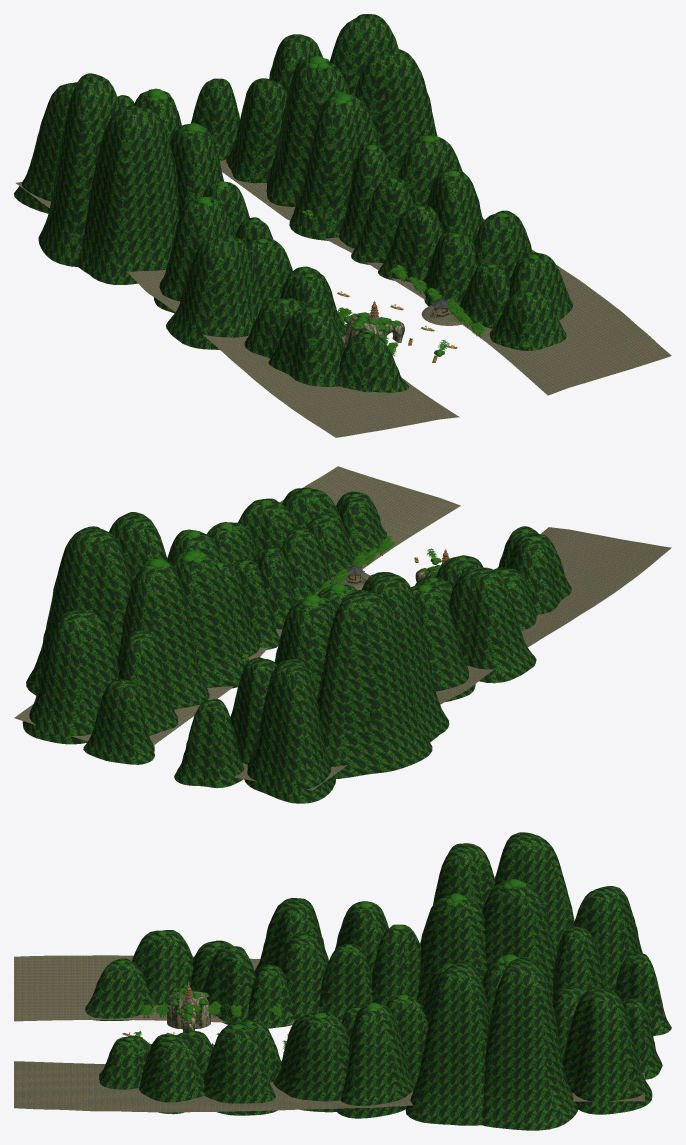
Rendered from guilin_hero_stage.glb.
The picture shows the model from 3 angles, top to bottom: view 1: azimuth 30°, elevation 25°; view 2: azimuth 150°, elevation 25°; view 3: azimuth 270°, elevation 25°; orthographic projection. The views are drawn at different scales.
Visible parts, largest first — view 1: GL_KarstSugarLoaf_Peaks, GL_RiverPebbleBanks_And_Dock, GL_LushKarst_Canopies, GL_Hero_BambooGroves_Leaves, GL_ElephantTrunkHill_Rock; view 2: GL_KarstSugarLoaf_Peaks, GL_RiverPebbleBanks_And_Dock, GL_LushKarst_Canopies, GL_Hero_BambooGroves_Leaves; view 3: GL_KarstSugarLoaf_Peaks, GL_RiverPebbleBanks_And_Dock, GL_LushKarst_Canopies, GL_ElephantTrunkHill_Rock, GL_Hero_BambooGroves_Leaves.
Boxes of the visible parts, x1,y1,x2,y2 form: GL_KarstSugarLoaf_Peaks: [14, 14, 573, 392]; GL_RiverPebbleBanks_And_Dock: [16, 159, 671, 437]; GL_LushKarst_Canopies: [145, 55, 538, 337]; GL_Hero_BambooGroves_Leaves: [301, 209, 486, 356]; GL_ElephantTrunkHill_Rock: [345, 313, 404, 345]; GL_KarstSugarLoaf_Peaks: [22, 487, 571, 803]; GL_RiverPebbleBanks_And_Dock: [14, 466, 671, 790]; GL_LushKarst_Canopies: [144, 489, 541, 605]; GL_Hero_BambooGroves_Leaves: [242, 536, 395, 661]; GL_KarstSugarLoaf_Peaks: [85, 832, 671, 1130]; GL_RiverPebbleBanks_And_Dock: [14, 955, 644, 1112]; GL_LushKarst_Canopies: [117, 879, 526, 1040]; GL_ElephantTrunkHill_Rock: [167, 990, 210, 1032]; GL_Hero_BambooGroves_Leaves: [140, 1001, 286, 1052].
Bounding box in the file's own units: 198 × 78.45 × 318.
Materials: 16 (11 with a texture image).
